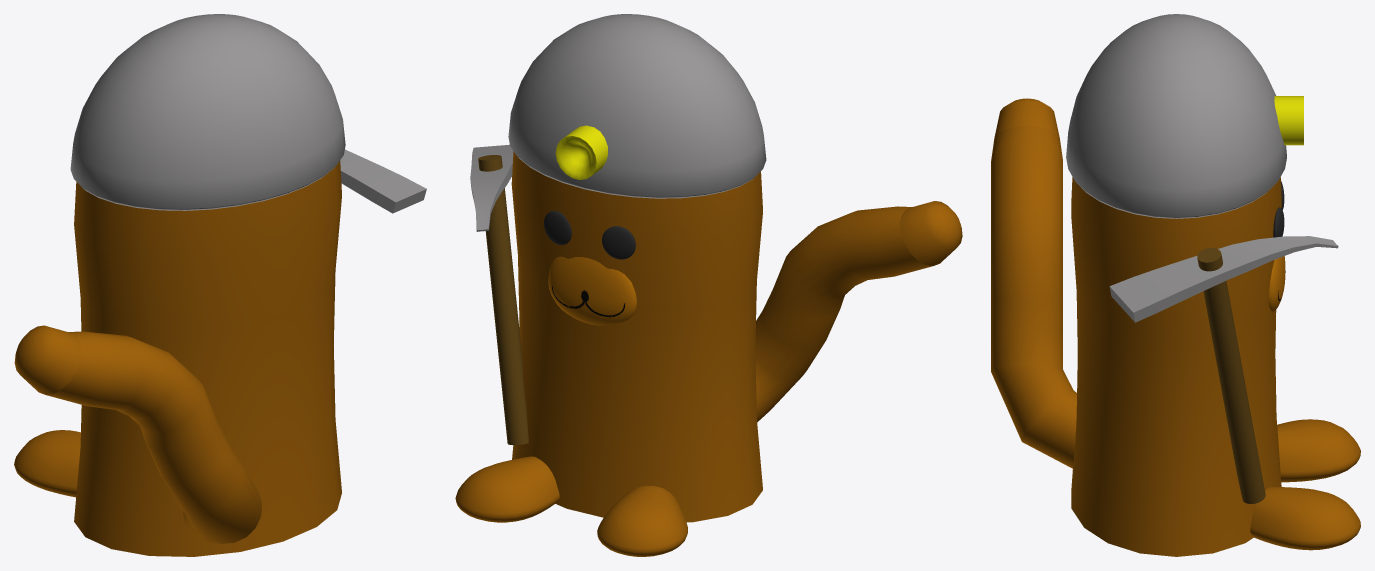
Rendered from Miner.FBX.
3 renders of one model, left to right at view 1: azimuth 30°, elevation 25°; view 2: azimuth 150°, elevation 25°; view 3: azimuth 270°, elevation 25°, orthographic. The views are drawn at different scales.
Visible parts, largest first — view 1: Cylinder001, Sphere007, Cylinder002, Sphere002, Box001; view 2: Cylinder001, Sphere007, Cylinder002, Cylinder004, Sphere001, Sphere002, Sphere006, Box001, Cylinder003, Sphere005, Sphere003; view 3: Cylinder001, Sphere007, Cylinder002, Box001, Cylinder004, Sphere001, Sphere002, Cylinder003, Sphere006.
Boxes of the visible parts, <box> form: Cylinder001: <box>74,160,341,556</box>; Sphere007: <box>70,14,345,210</box>; Cylinder002: <box>14,325,261,543</box>; Sphere002: <box>14,430,80,497</box>; Box001: <box>340,149,426,213</box>; Cylinder001: <box>511,151,762,522</box>; Sphere007: <box>508,14,766,198</box>; Cylinder002: <box>755,201,962,421</box>; Cylinder004: <box>478,155,528,445</box>; Sphere001: <box>455,456,559,522</box>; Sphere002: <box>597,486,687,556</box>; Sphere006: <box>548,256,636,325</box>; Box001: <box>470,144,513,231</box>; Cylinder003: <box>555,125,608,179</box>; Sphere005: <box>602,226,635,259</box>; Sphere003: <box>544,211,571,244</box>; Cylinder001: <box>1071,177,1281,556</box>; Sphere007: <box>1066,14,1286,218</box>; Cylinder002: <box>991,98,1076,468</box>; Box001: <box>1109,236,1338,322</box>; Cylinder004: <box>1197,248,1265,503</box>; Sphere001: <box>1250,487,1360,550</box>; Sphere002: <box>1277,419,1360,482</box>; Cylinder003: <box>1274,96,1303,145</box>; Sphere006: <box>1268,256,1285,311</box>.
Bounding box in the file's own units: 67.51 × 68.88 × 48.04.
Materials: 11 (11 with a texture image).
